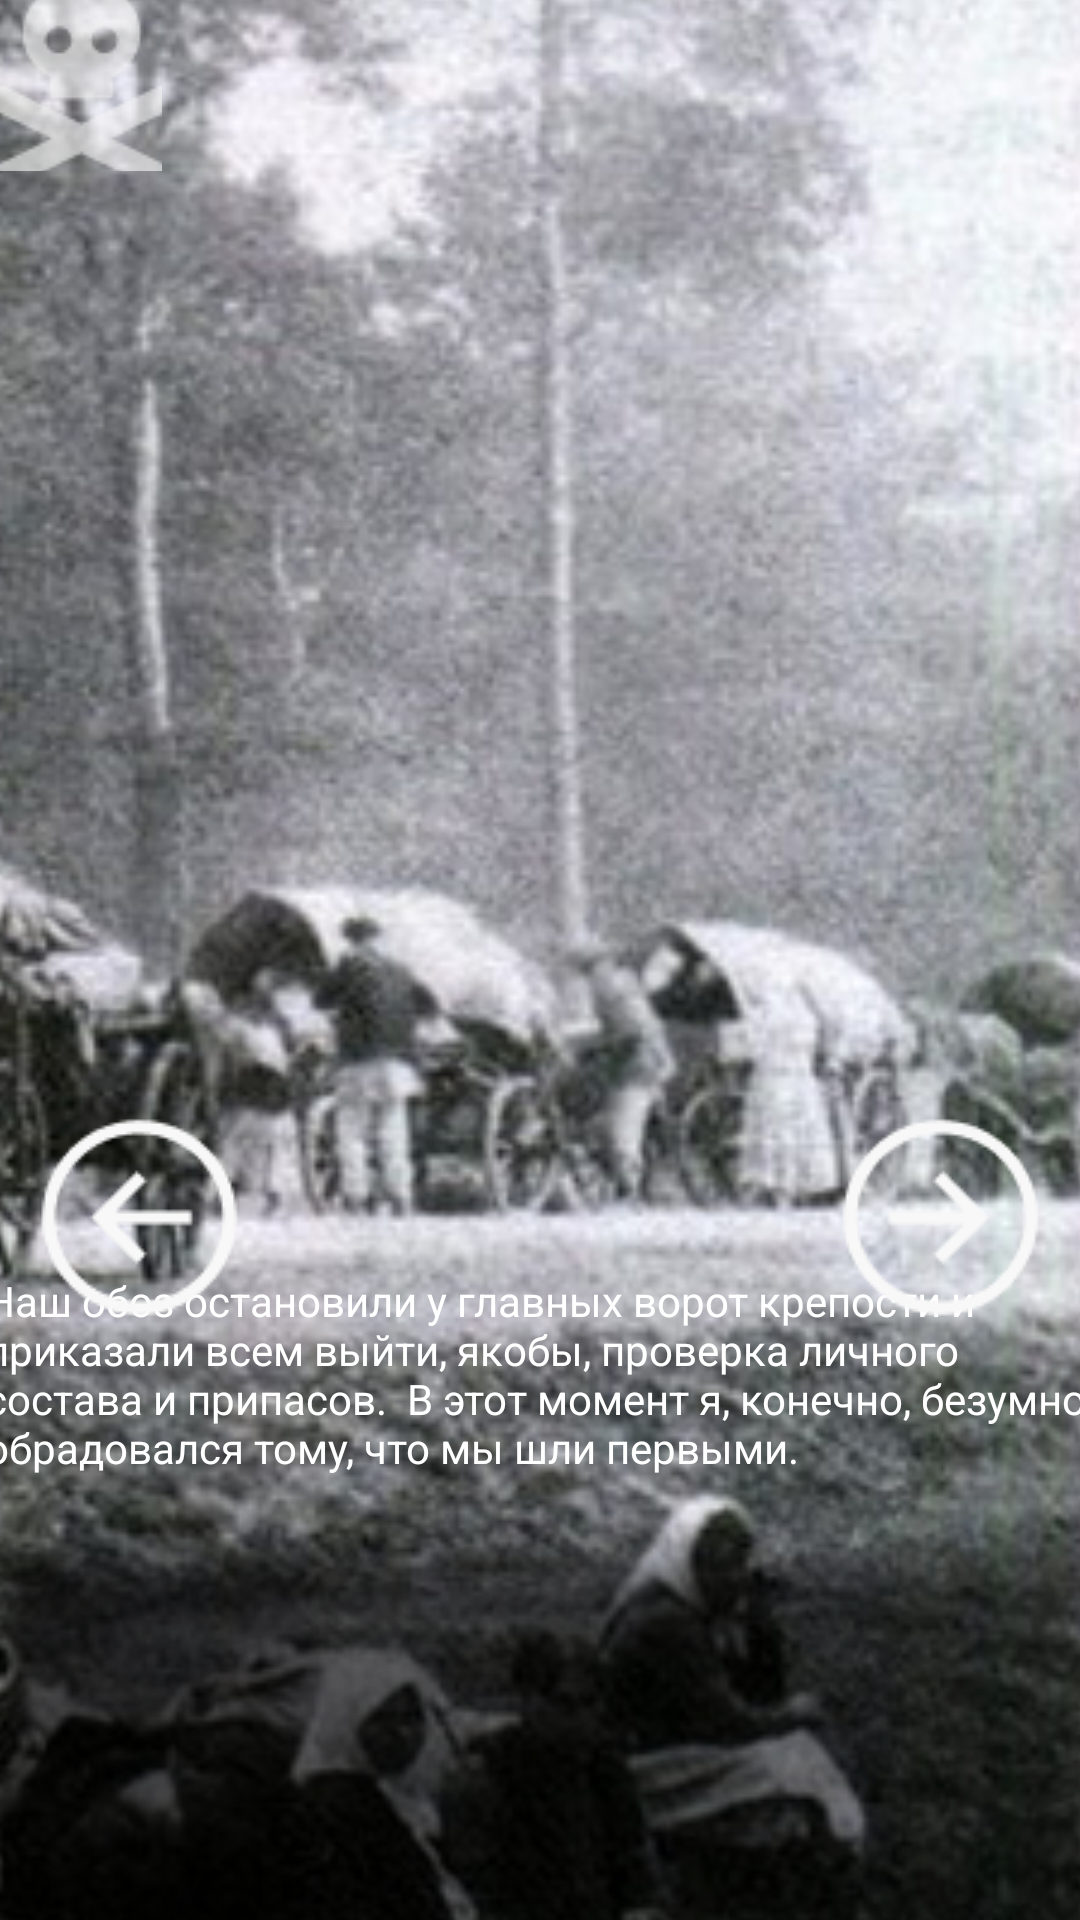

Where to tap for icons on this 1080 x 1920 app screen, as (x=x, y=y):
back: (x=139, y=1217)
forward: (x=940, y=1217)
